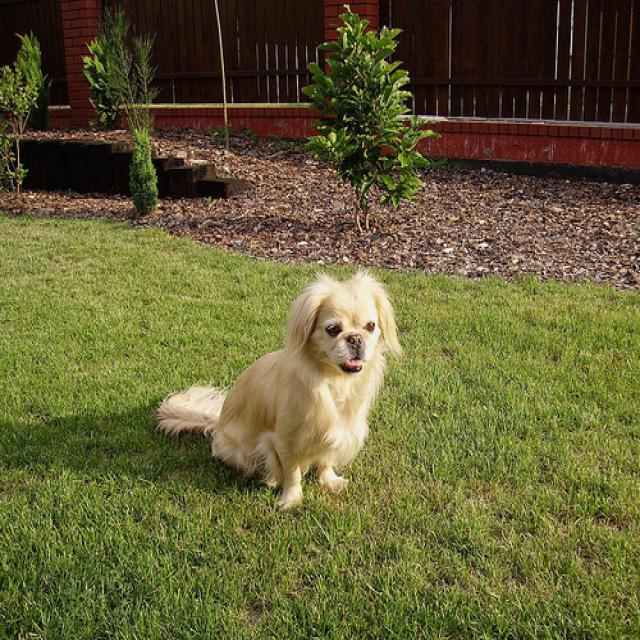dog-japanese_chin: (142, 260, 412, 511)
